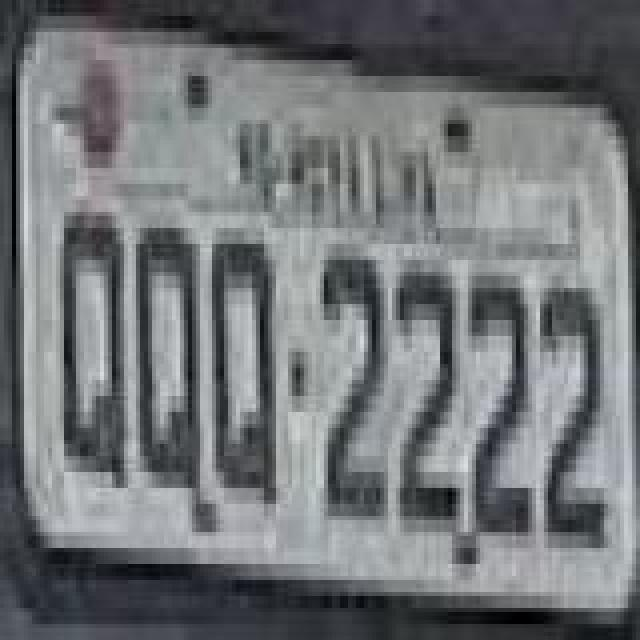2: (320, 250, 392, 526), (392, 258, 464, 534), (468, 266, 540, 542), (540, 282, 612, 558)
Q: (60, 206, 132, 498), (132, 222, 204, 498), (212, 230, 284, 506)
